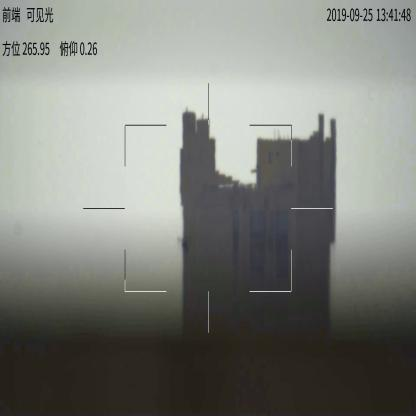uav: (175, 237, 192, 260)
